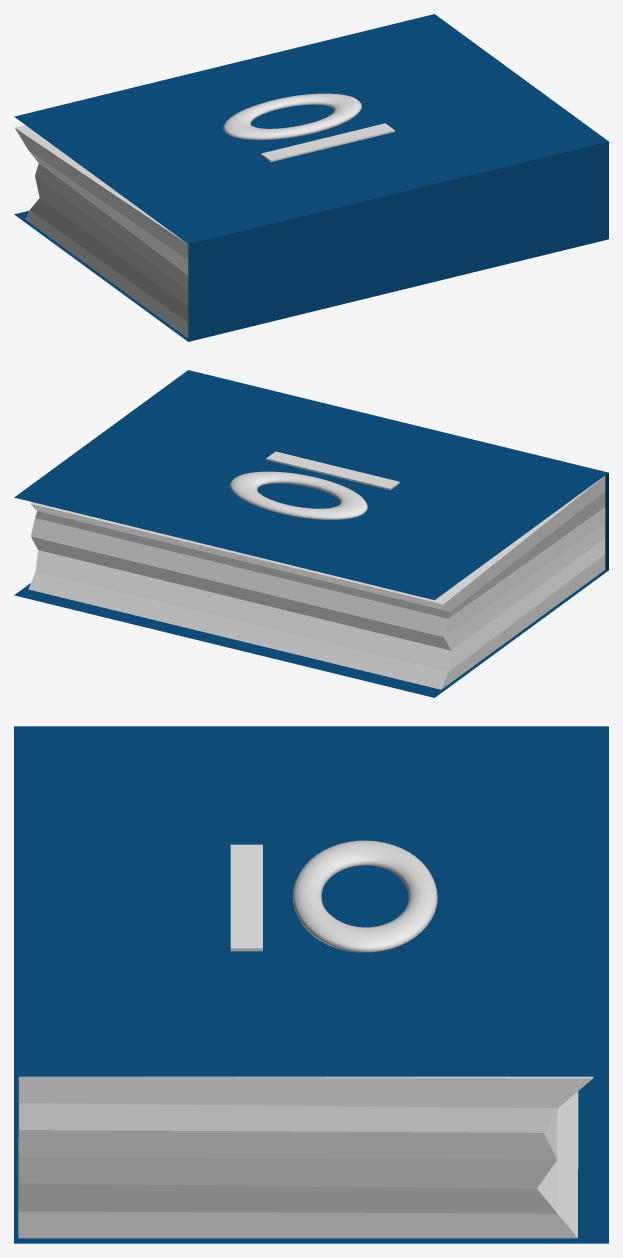
The model's file is 10 book2.fbx.
3 renders of one model, top to bottom at view 1: azimuth 30°, elevation 25°; view 2: azimuth 150°, elevation 25°; view 3: azimuth 270°, elevation 25°, orthographic. The views are drawn at different scales.
Parts seen in each view (by area): view 1: 立方体, Cube, トーラス, 立方体.001; view 2: 立方体, Cube, トーラス, 立方体.001; view 3: 立方体, Cube, トーラス, 立方体.001.
Boxes of the visible parts, left/top/right/bottom form: 立方体: left=14, top=14, right=608, bottom=341; Cube: left=15, top=125, right=188, bottom=338; トーラス: left=223, top=93, right=361, bottom=140; 立方体.001: left=261, top=123, right=394, bottom=161; 立方体: left=14, top=370, right=608, bottom=697; Cube: left=28, top=476, right=605, bottom=689; トーラス: left=230, top=471, right=367, bottom=519; 立方体.001: left=266, top=451, right=399, bottom=490; 立方体: left=14, top=726, right=608, bottom=1243; Cube: left=18, top=1076, right=593, bottom=1238; トーラス: left=292, top=840, right=437, bottom=952; 立方体.001: left=230, top=844, right=262, bottom=951.
Bounding box in the file's own units: 214 × 50.02 × 152.
